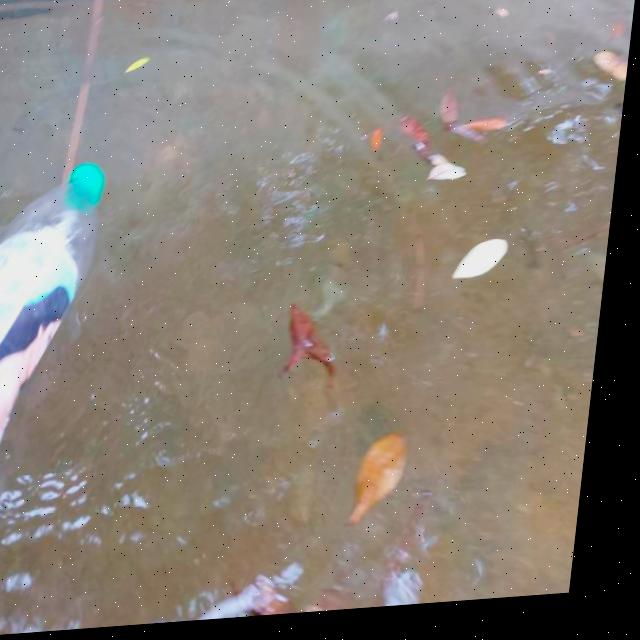waterbottle: (0, 160, 127, 486)
